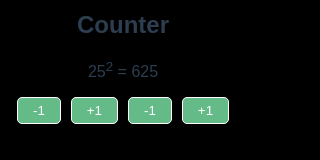
Test: Counter.vue › should decrement counter in 1
The image size is (320, 160).
Click the 1st button "-1".
click(39, 111)  # box [17,97,61,124]
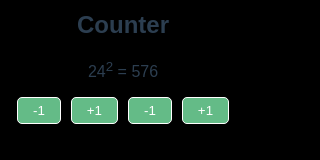
Expected: the text "24" is shown, [88,63,106,80]
